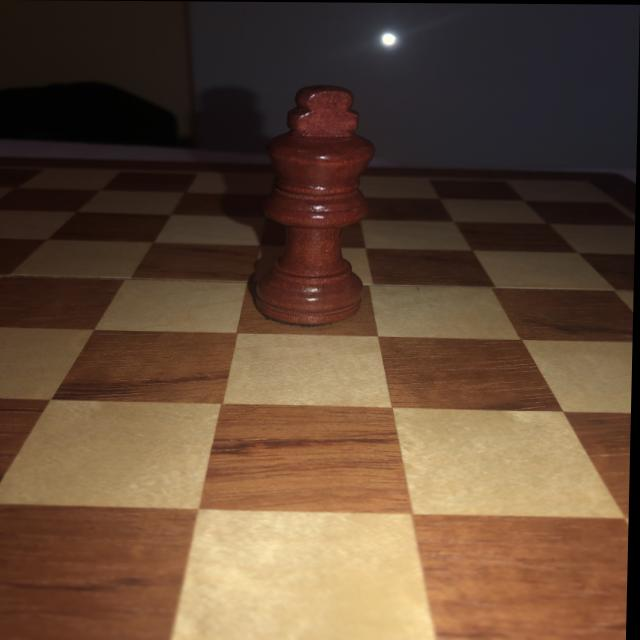black_king: (249, 82, 378, 327)
